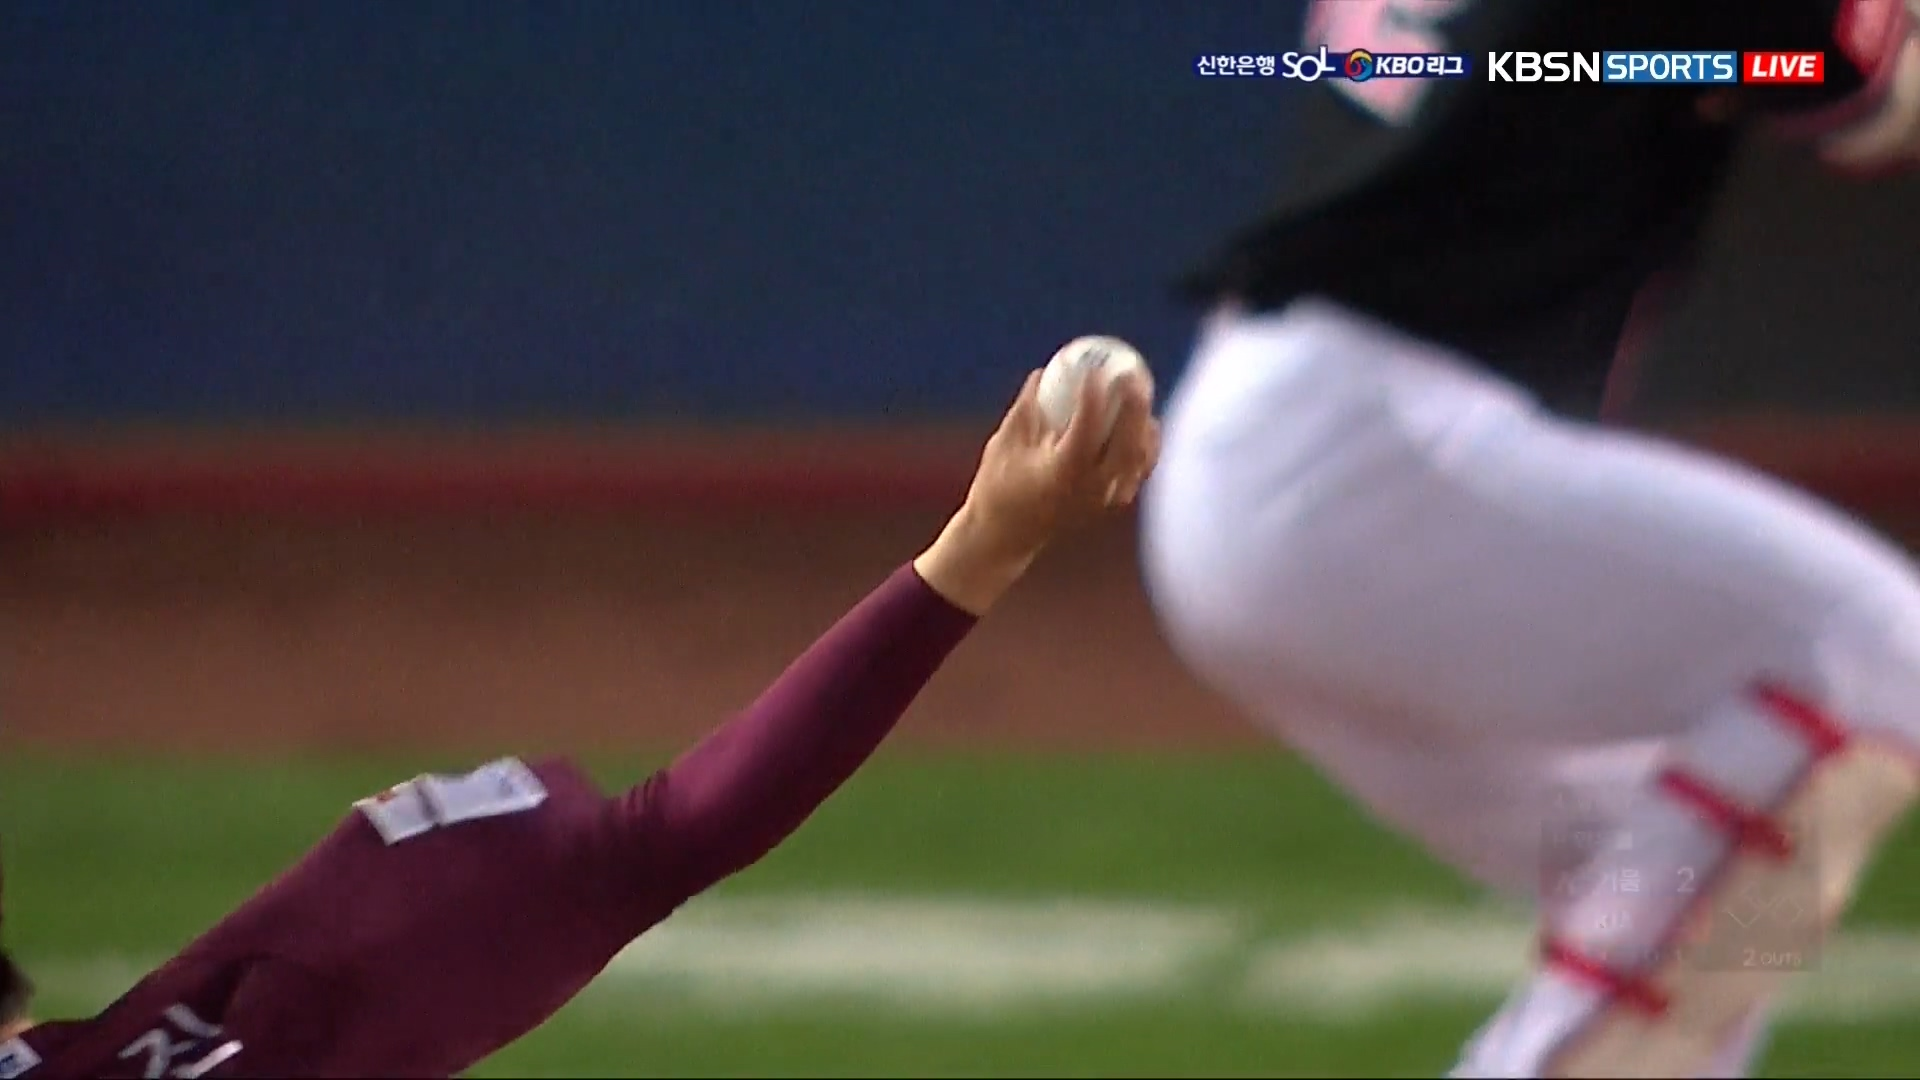zoomin_hand: (637, 315, 1166, 905)
